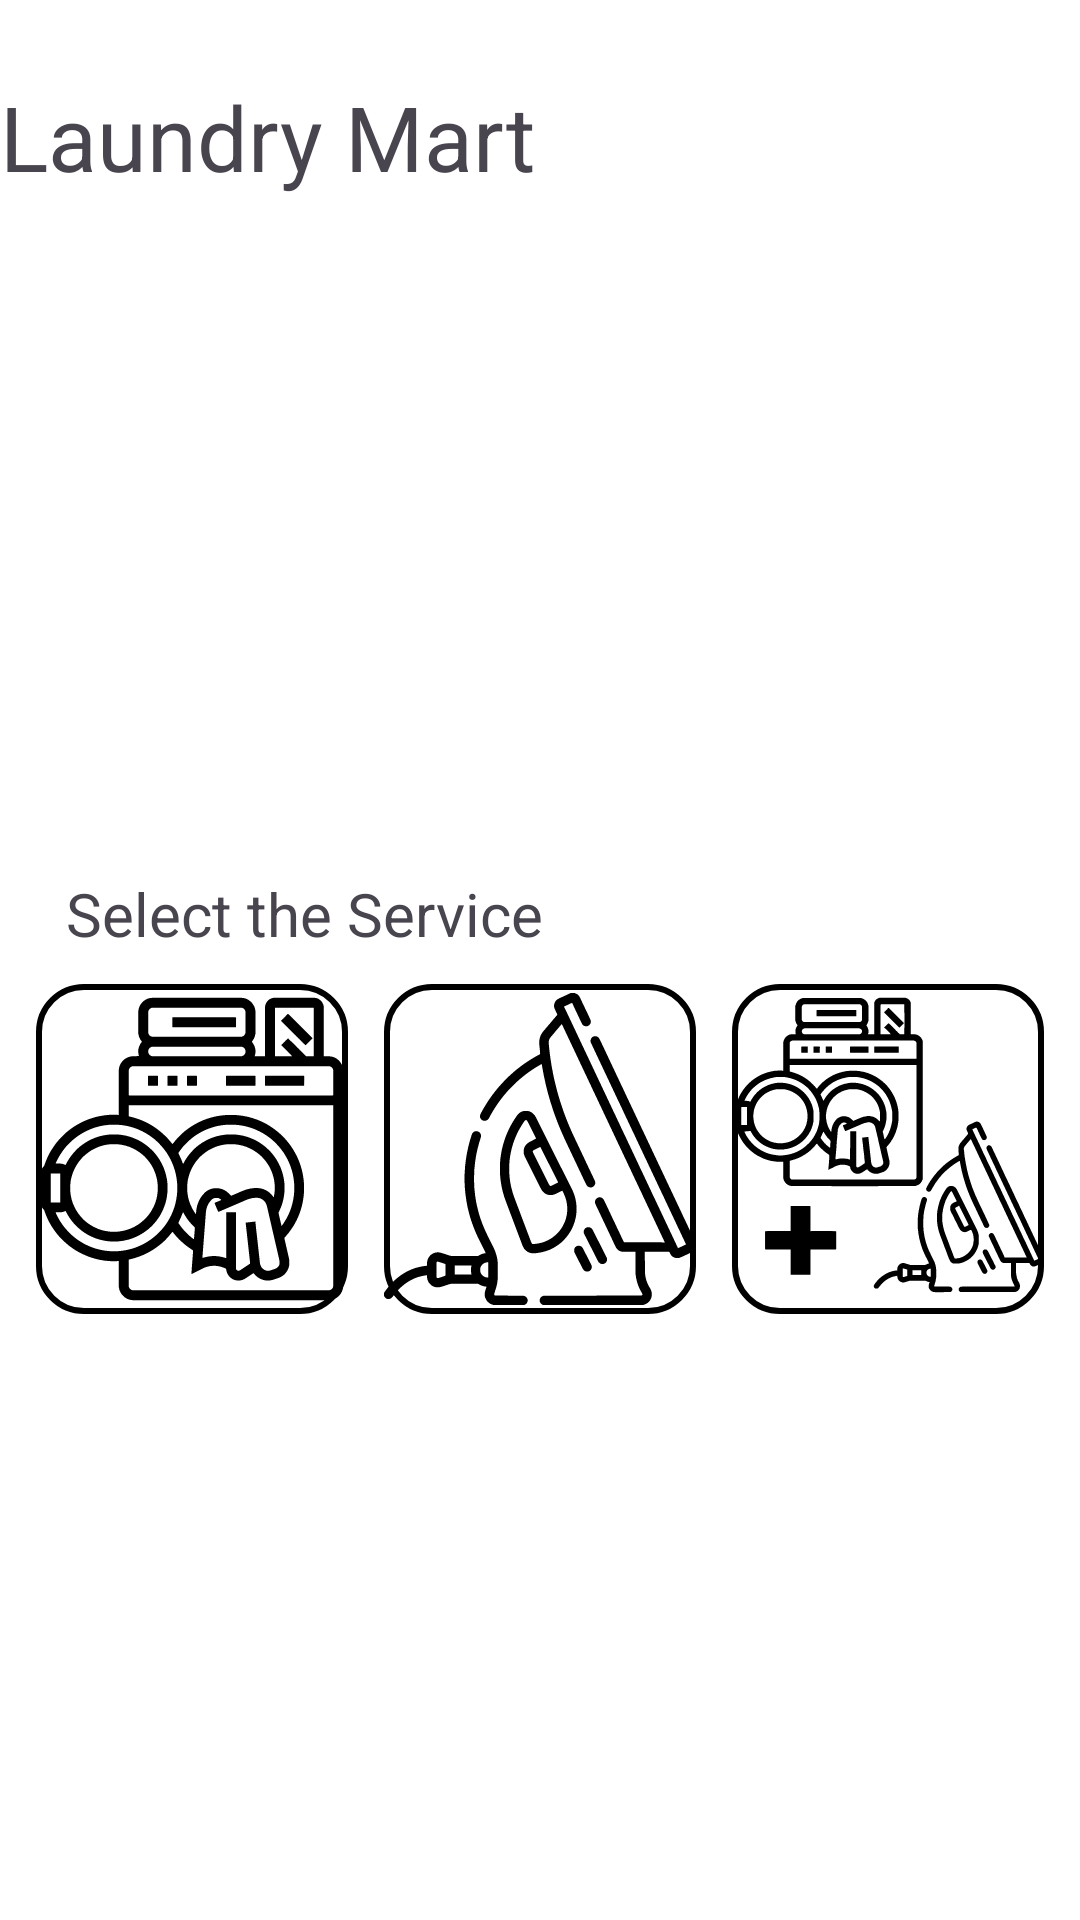

Where icons sit on this 1080px x 1920px app screen, as (x1, y1, x2, y2):
iron: (384, 984, 696, 1314)
iron laundry: (732, 984, 1044, 1314)
laundry machine: (36, 984, 348, 1314)
